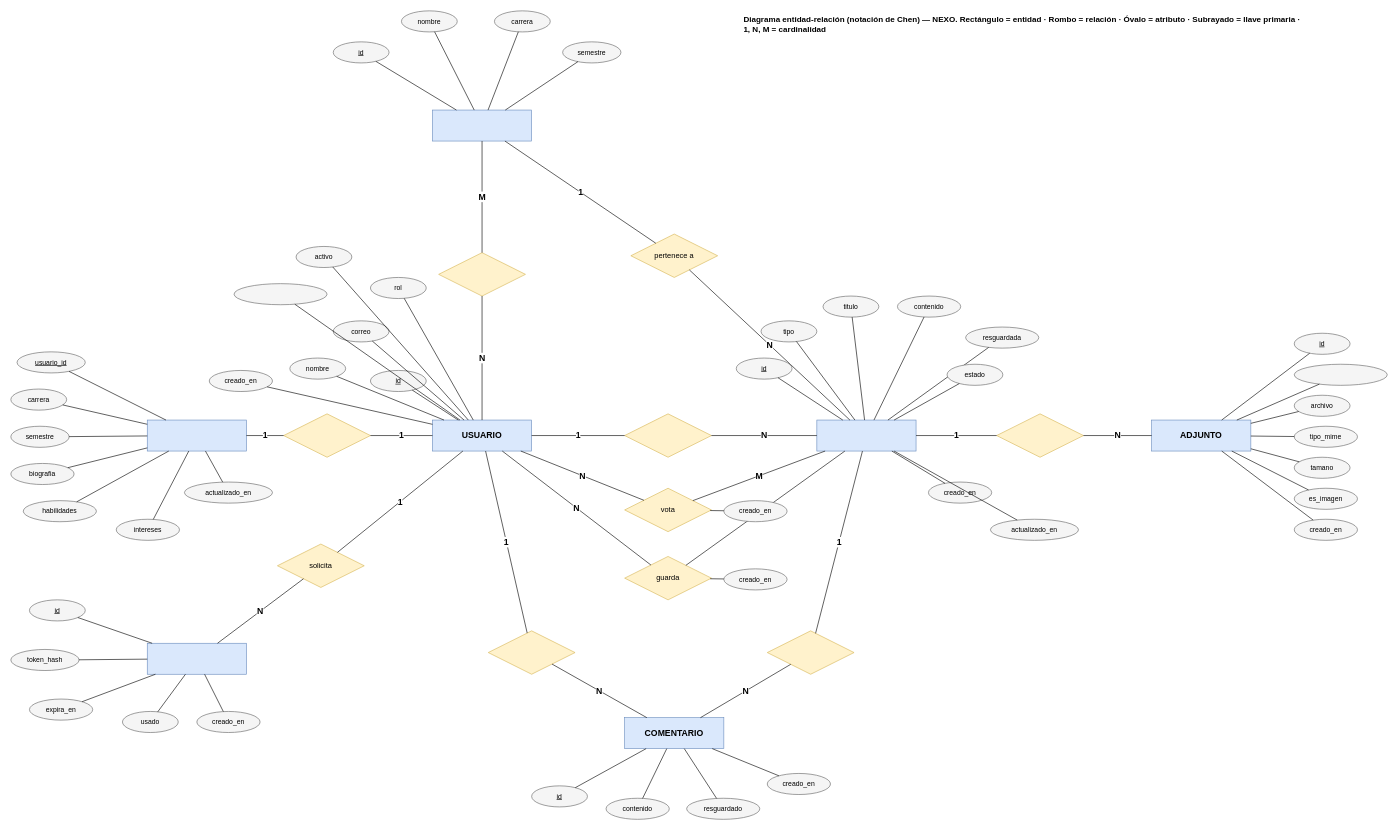
This 1398x830 diagram has some shape labels left out. The box of each missing label's shape, as (x1, y1, x2, y2) in pixels:
contiene: (996, 413, 1083, 457)
contrasena_hash: (233, 283, 327, 305)
cursa: (438, 252, 525, 296)
escribe: (488, 630, 575, 674)
MATERIA: (432, 109, 532, 141)
nombre_original: (1294, 364, 1387, 385)
PERFIL: (147, 419, 246, 451)
publica: (624, 413, 711, 457)
PUBLICACIÓN: (816, 419, 916, 451)
recibe: (767, 630, 854, 674)
RECUPERACIÓN: (147, 643, 246, 674)
tiene: (283, 413, 370, 457)
